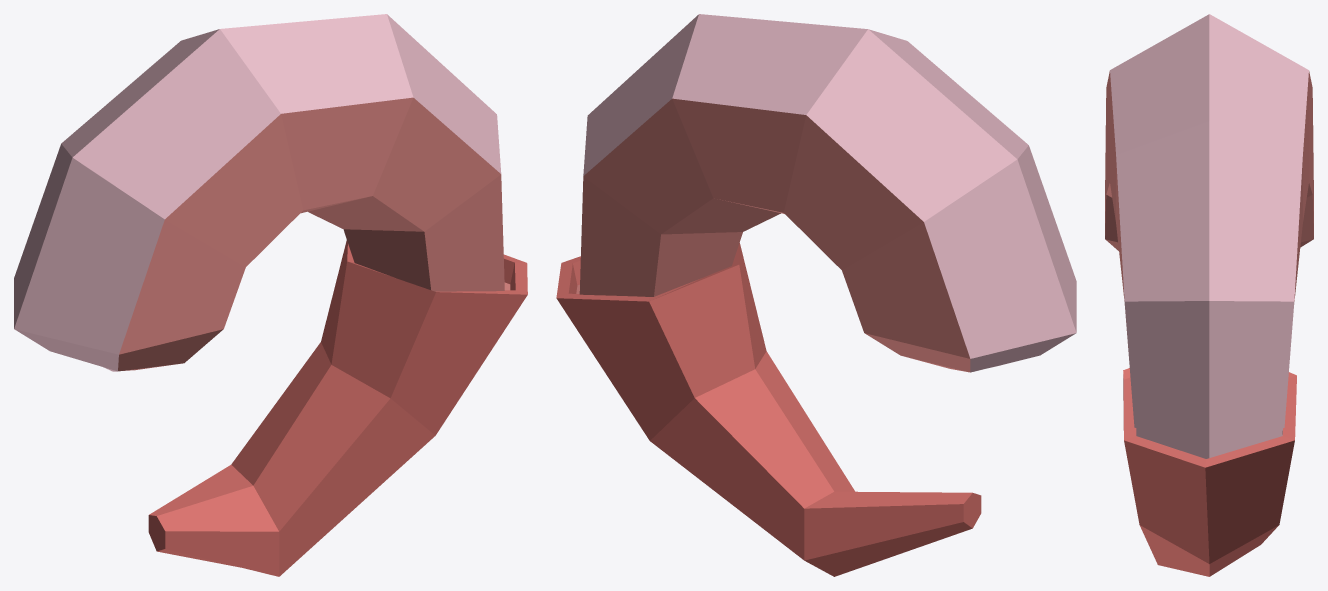
File: Shrimp_01.fbx
3 renders of one model, left to right at view 1: azimuth 30°, elevation 25°; view 2: azimuth 150°, elevation 25°; view 3: azimuth 270°, elevation 25°, orthographic.
Visible parts, largest first — view 1: Shrimp_01; view 2: Shrimp_01; view 3: Shrimp_01.
Boxes of the visible parts, left/top/right/bottom form: Shrimp_01: left=14, top=14, right=527, bottom=576; Shrimp_01: left=556, top=14, right=1076, bottom=576; Shrimp_01: left=1105, top=14, right=1313, bottom=576.
Bounding box in the file's own units: 4.68 × 4.8 × 1.66.
